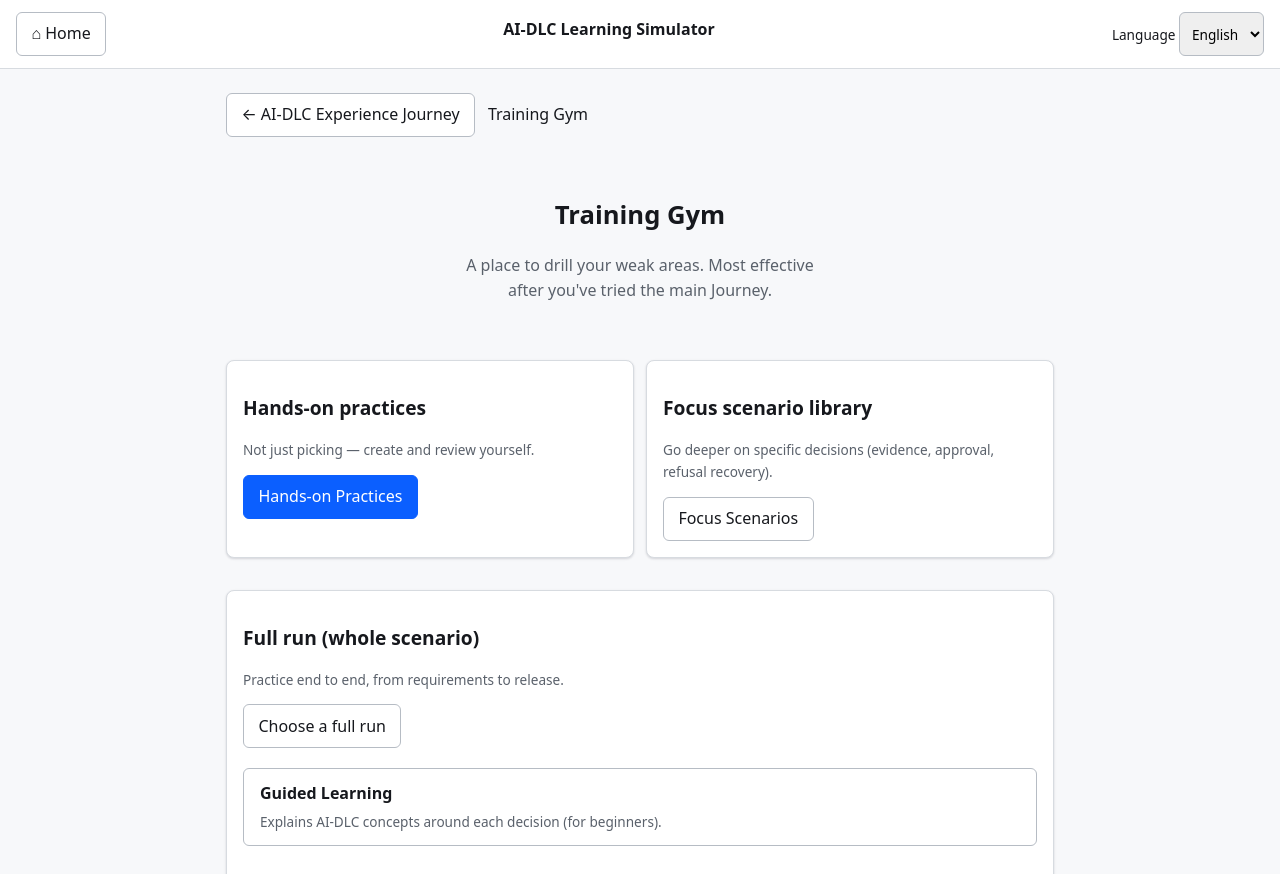
Test: RC2: navigation (AppShell / back / retry) › どの画面からも Home へ戻れる
The width and height of the screenshot is (1280, 874).
Click the button with test id "start": click(322, 726) [243, 704, 401, 748]
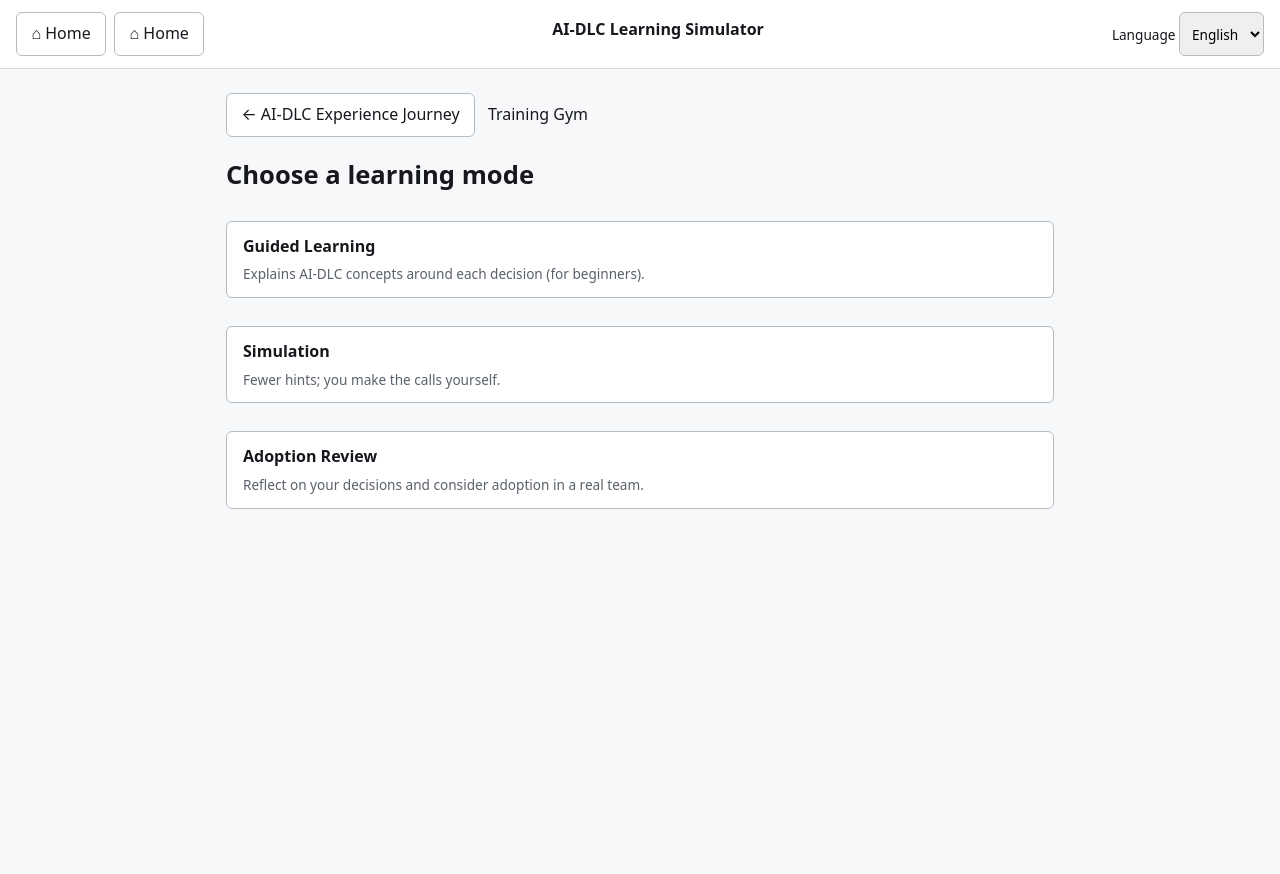
# mode-select から nav-home。
Click the button with test id "nav-home": click(61, 34) [16, 12, 106, 56]
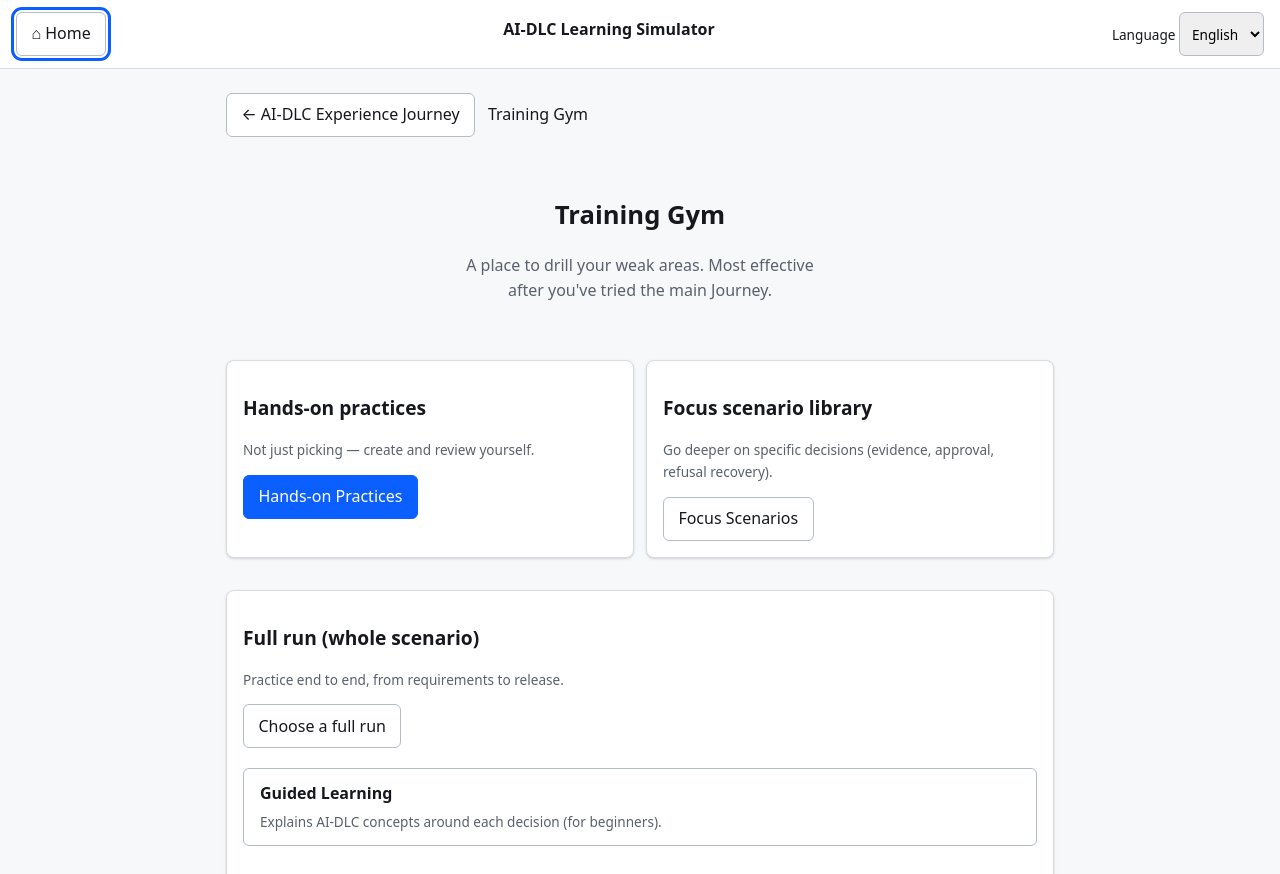
Check: the button with test id "start" is shown, box [243, 704, 401, 748]
